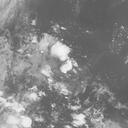cyclone: (31, 31, 79, 79)
